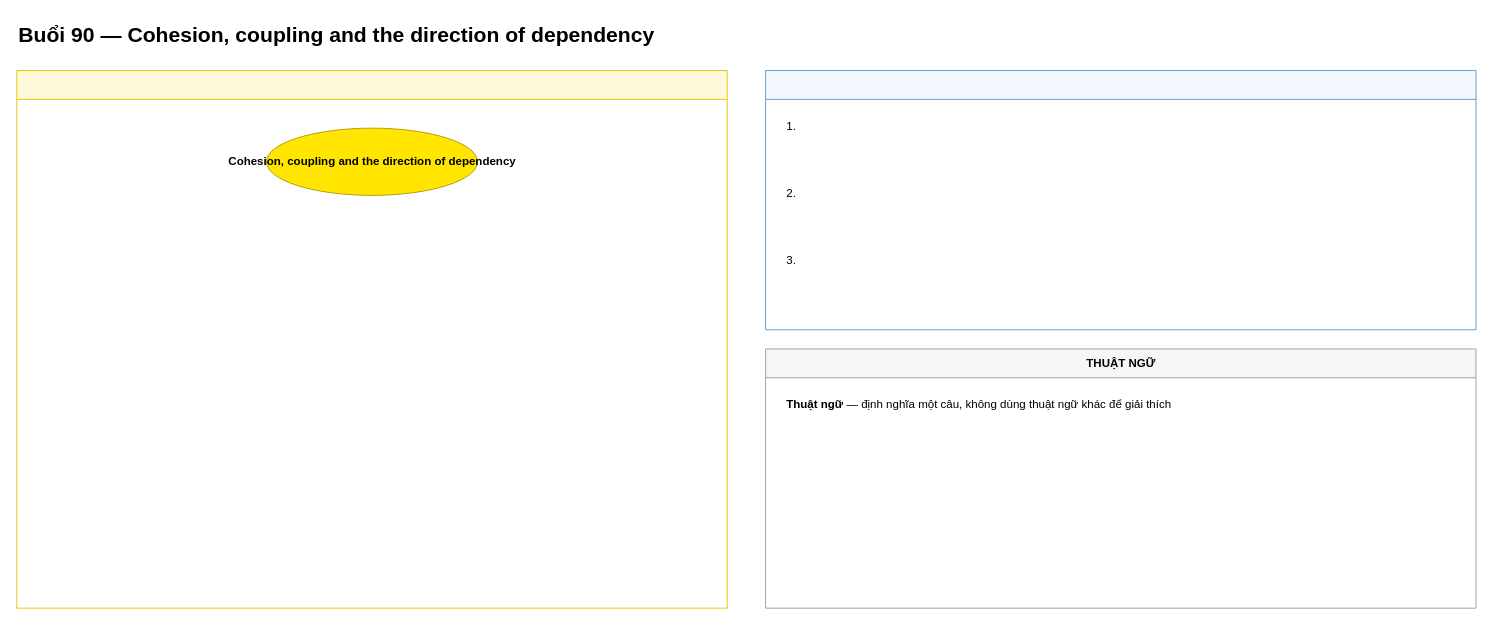
Some shapes in this 1493 by 625 pixel diagram are drawn without their labels. The box of each missing label's shape, as (x1, y1, x2, y2) in pixels:
KEY TAKEAWAY — ba điều phải nhớ: (765, 70, 1476, 330)
MINDMAP: (16, 70, 727, 608)
